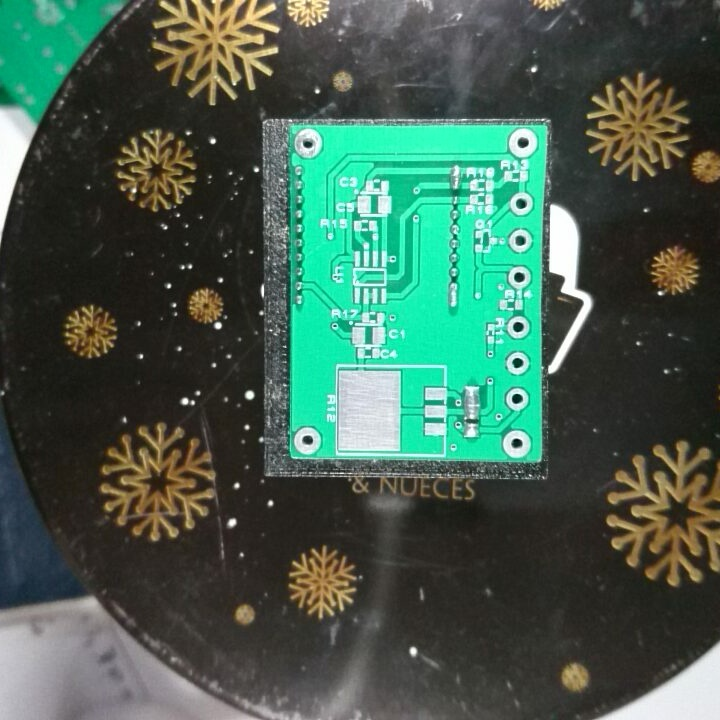F: (506, 127, 540, 160), (292, 126, 325, 160), (292, 424, 324, 455), (501, 429, 534, 458), (505, 226, 534, 255), (508, 190, 537, 218), (505, 312, 533, 340), (505, 263, 534, 289), (505, 350, 531, 378), (504, 386, 531, 412)
P: (461, 383, 483, 421), (445, 280, 460, 310), (449, 163, 462, 192)
